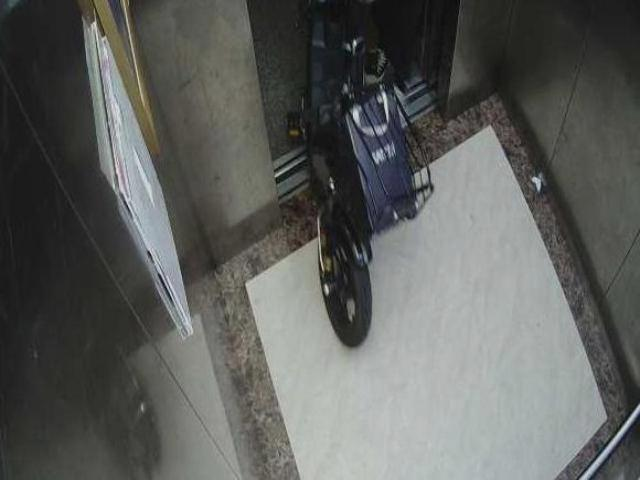emotor: (285, 22, 440, 338)
